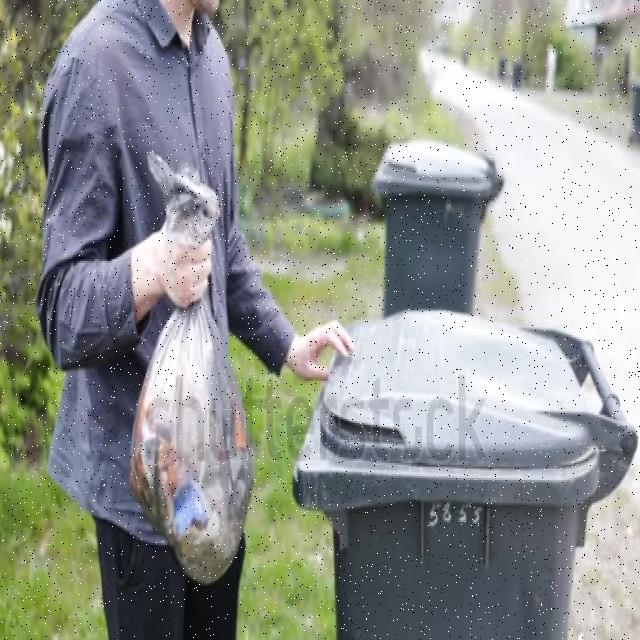garbage_dumping: (294, 287, 636, 640), (128, 165, 252, 580), (363, 139, 507, 309)
